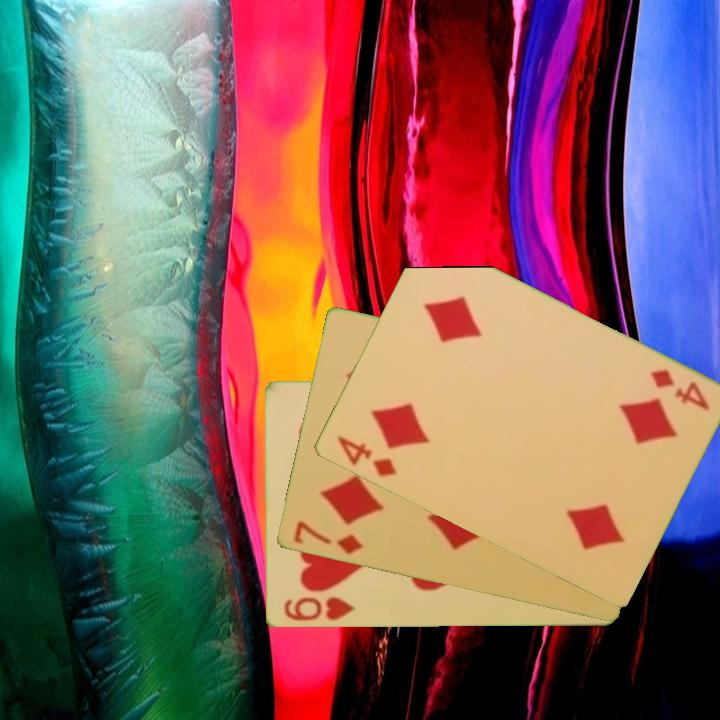4d: (332, 432, 399, 480), (645, 366, 711, 414)
6h: (280, 594, 357, 624)
7d: (289, 517, 366, 558)
